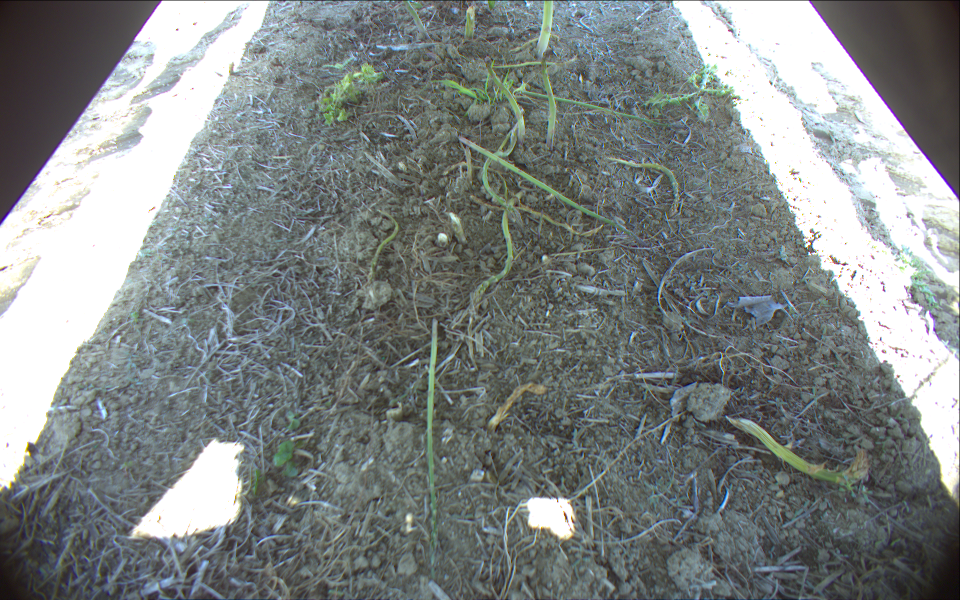aspa: (458, 134, 634, 234), (479, 125, 604, 239), (725, 415, 870, 487), (517, 87, 675, 127), (470, 212, 513, 318), (610, 156, 681, 218), (425, 318, 439, 574), (484, 58, 527, 141), (366, 206, 398, 282), (541, 55, 556, 151), (533, 1, 556, 59), (402, 1, 426, 35), (464, 4, 478, 39)
